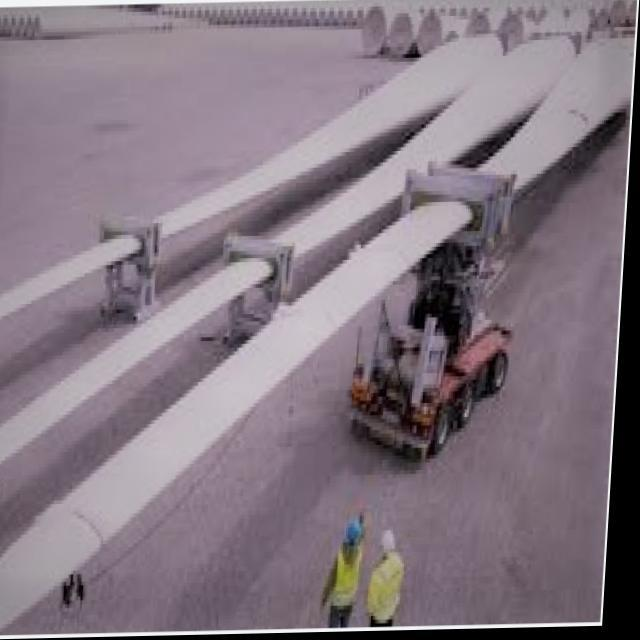helmet: (343, 517, 364, 550), (378, 526, 398, 557)
vest: (366, 553, 406, 621), (330, 541, 363, 610)
